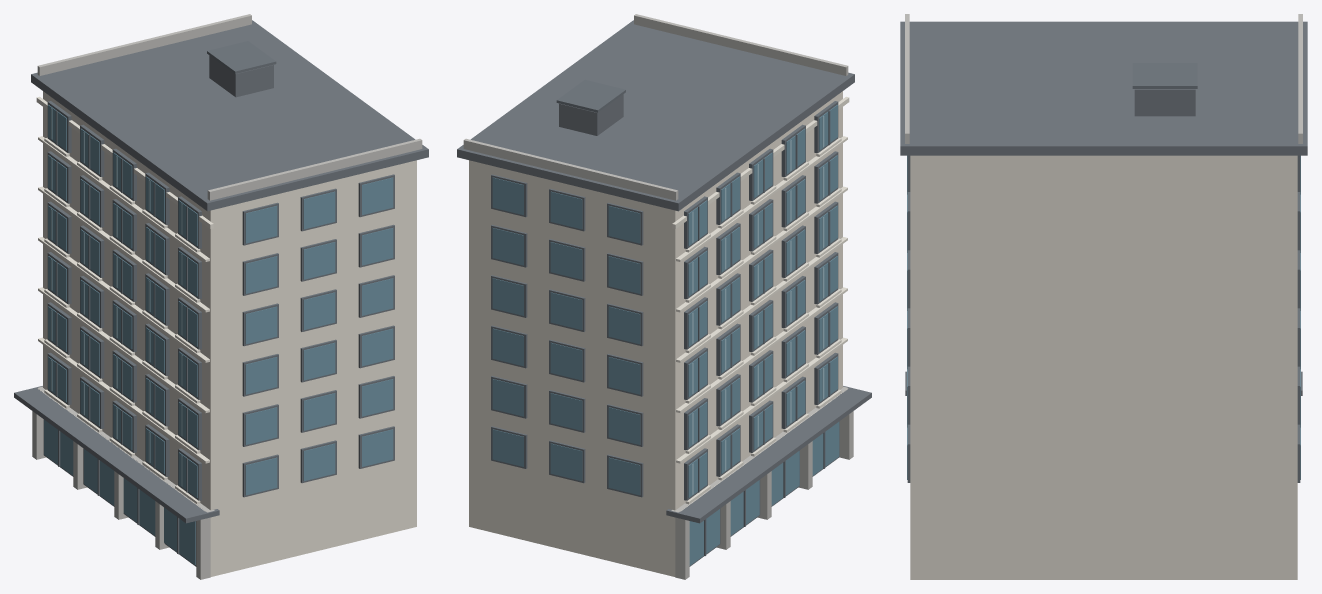
Rendered from edificio_v25_3.glb.
3 renders of one model, left to right at view 1: azimuth 30°, elevation 25°; view 2: azimuth 150°, elevation 25°; view 3: azimuth 270°, elevation 25°, orthographic. The views are drawn at different scales.
Visible parts, largest first — view 1: cream, roof, glass, frame, trim, concrete, glasslight; view 2: cream, roof, glass, frame, trim, concrete, glasslight; view 3: cream, roof, frame, concrete, glass.
Boxes of the visible parts, x1,y1,x2,y2 form: cream: (43, 91, 416, 576); roof: (14, 20, 428, 523); glass: (44, 105, 393, 564); frame: (43, 41, 394, 566); trim: (36, 96, 213, 511); concrete: (32, 14, 422, 579); glasslight: (51, 108, 182, 486); cream: (469, 91, 842, 576); roof: (457, 20, 871, 523); glass: (492, 105, 839, 565); frame: (491, 79, 839, 566); trim: (672, 96, 849, 511); concrete: (463, 14, 853, 579); glasslight: (692, 116, 824, 494); cream: (910, 155, 1297, 579); roof: (900, 21, 1307, 395); frame: (907, 63, 1300, 482); concrete: (905, 14, 1302, 143); glass: (907, 155, 1300, 479).
Bounding box in the file's own units: 15.75 × 25.38 × 20.
